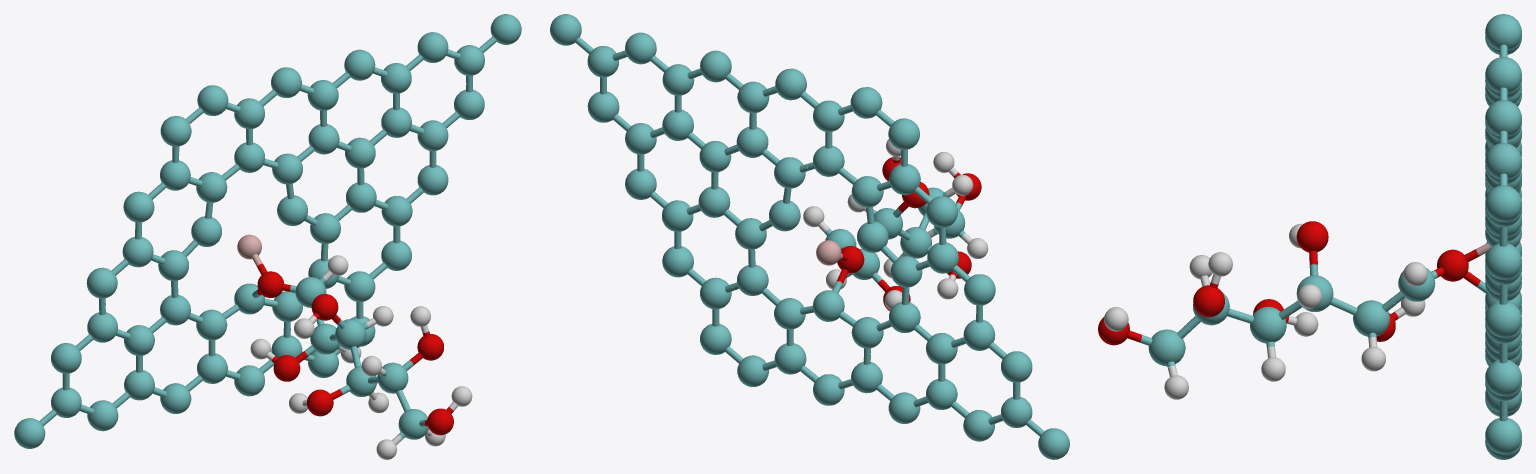
File: SugarFunctionalized_FeDoped_Graph.glb
3 views of the same model, side by side, from view 1: azimuth 30°, elevation 25°; view 2: azimuth 150°, elevation 25°; view 3: azimuth 270°, elevation 25° (orthographic). The views are drawn at different scales.
Visible parts, largest first — view 1: vmd_mol0_rep0, vmd_mol0_rep1; view 2: vmd_mol0_rep0, vmd_mol0_rep1; view 3: vmd_mol0_rep0, vmd_mol0_rep1.
Part boxes in pixels (bbox=[...]): vmd_mol0_rep0: bbox=[14, 14, 521, 459]; vmd_mol0_rep1: bbox=[39, 36, 496, 445]; vmd_mol0_rep0: bbox=[550, 14, 1069, 459]; vmd_mol0_rep1: bbox=[575, 37, 1044, 436]; vmd_mol0_rep0: bbox=[1098, 14, 1521, 459]; vmd_mol0_rep1: bbox=[1127, 44, 1507, 421].
Size of the model in its own units: 1.58 by 0.9542 by 0.9694.
